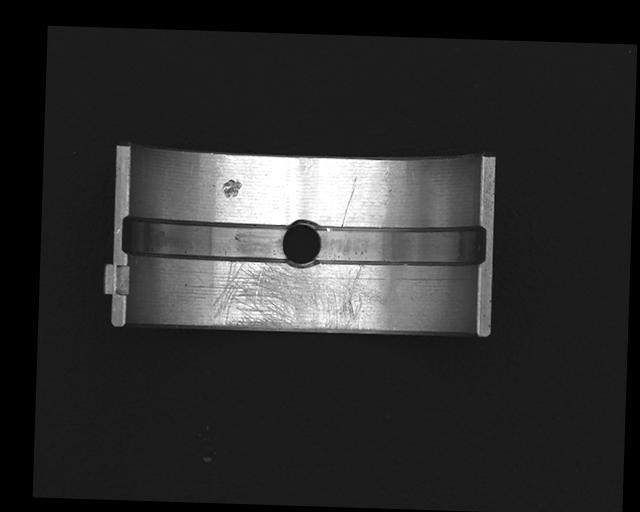bruise: (221, 177, 242, 199)
gap: (315, 222, 485, 268), (121, 218, 288, 262)
hole: (280, 220, 322, 267)
nick: (340, 176, 356, 227)
scratch: (212, 259, 382, 332)
